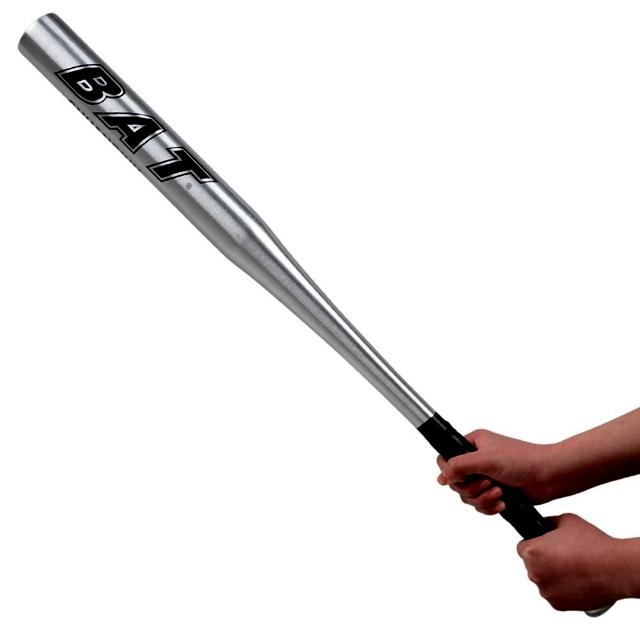baseball bat: (7, 8, 606, 620)
